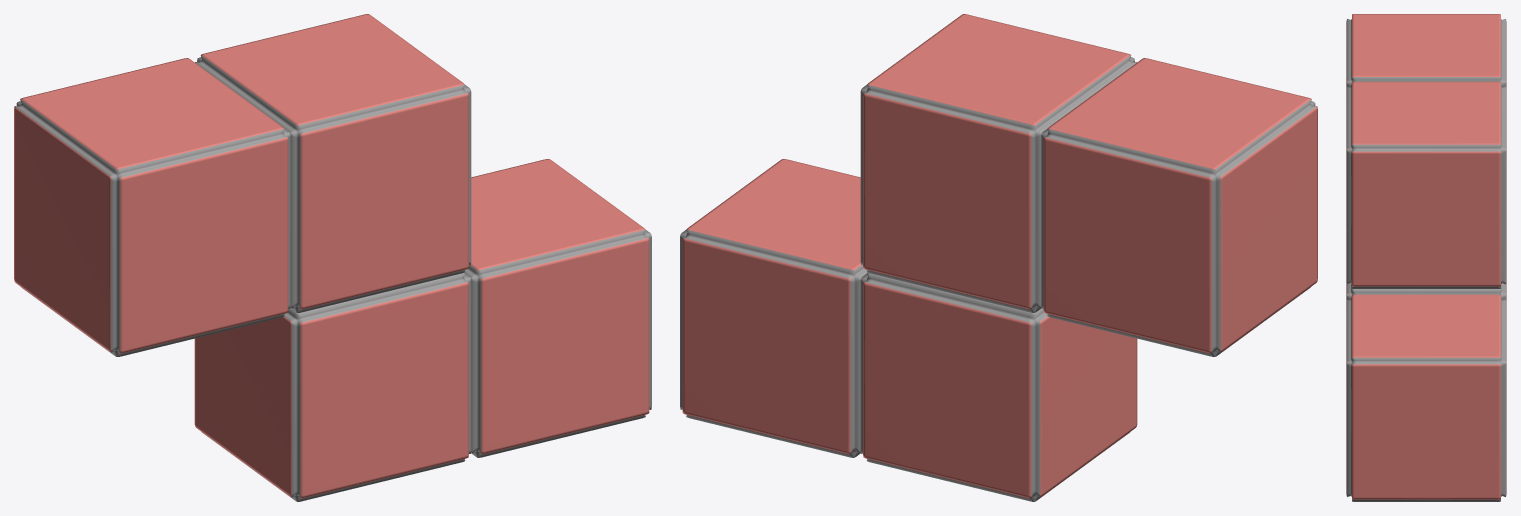
Rendered from redTetrinimous.fbx.
3 views of the same model, side by side, from view 1: azimuth 30°, elevation 25°; view 2: azimuth 150°, elevation 25°; view 3: azimuth 270°, elevation 25° (orthographic). The views are drawn at different scales.
Visible parts, largest first — view 1: redTetrinimous; view 2: redTetrinimous; view 3: redTetrinimous.
Boxes of the visible parts, <box> form: redTetrinimous: <box>14,14,651,501</box>; redTetrinimous: <box>680,14,1317,501</box>; redTetrinimous: <box>1346,14,1506,501</box>.
Bounding box in the file's own units: 3.03 × 2.02 × 1.01.
